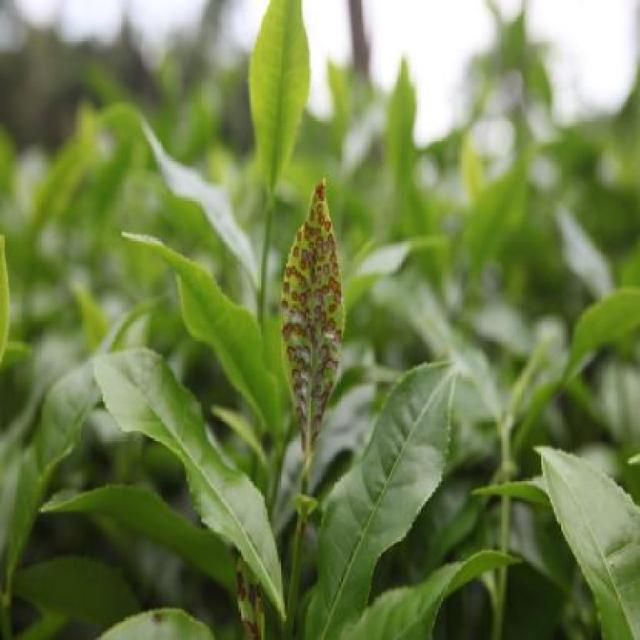Tea Mosquito bug infested leaf: (275, 184, 348, 450)
